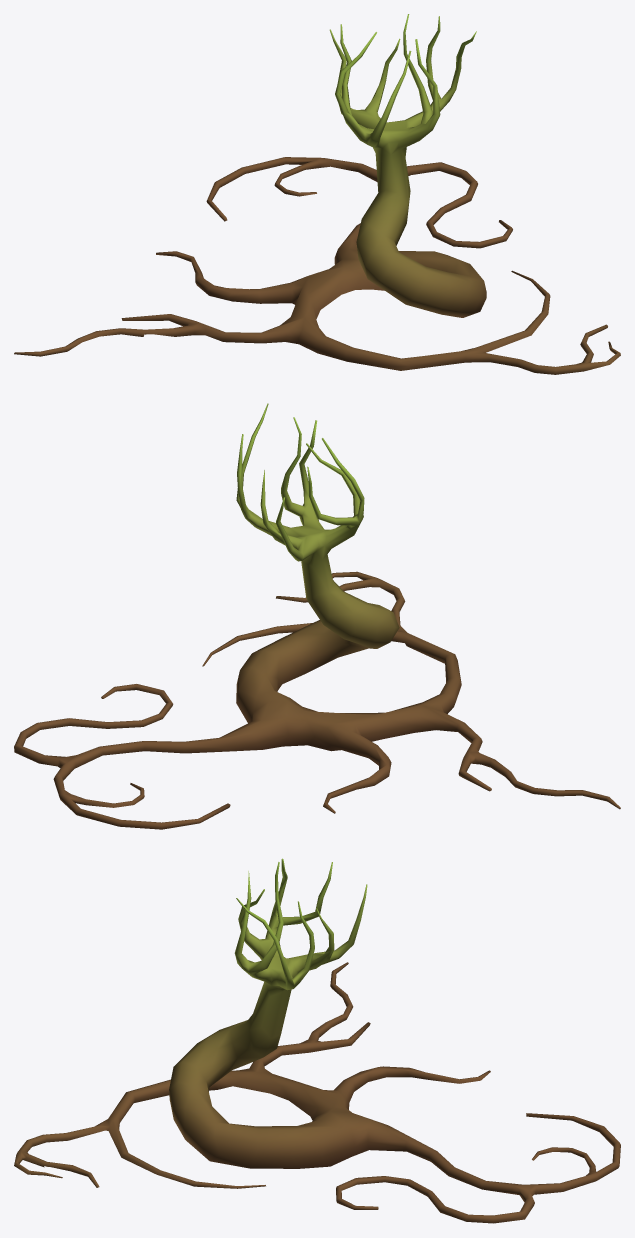
3 views of the same model, one above another, from view 1: azimuth 30°, elevation 25°; view 2: azimuth 150°, elevation 25°; view 3: azimuth 270°, elevation 25° (orthographic).
Visible parts, largest first — view 1: Cube.136; view 2: Cube.136; view 3: Cube.136.
Part boxes in pixels (left/top/right/bottom): Cube.136: left=14, top=14, right=620, bottom=374; Cube.136: left=14, top=403, right=620, bottom=829; Cube.136: left=14, top=858, right=620, bottom=1223.
Bounding box in the file's own units: 57.76 × 31.17 × 57.73.
